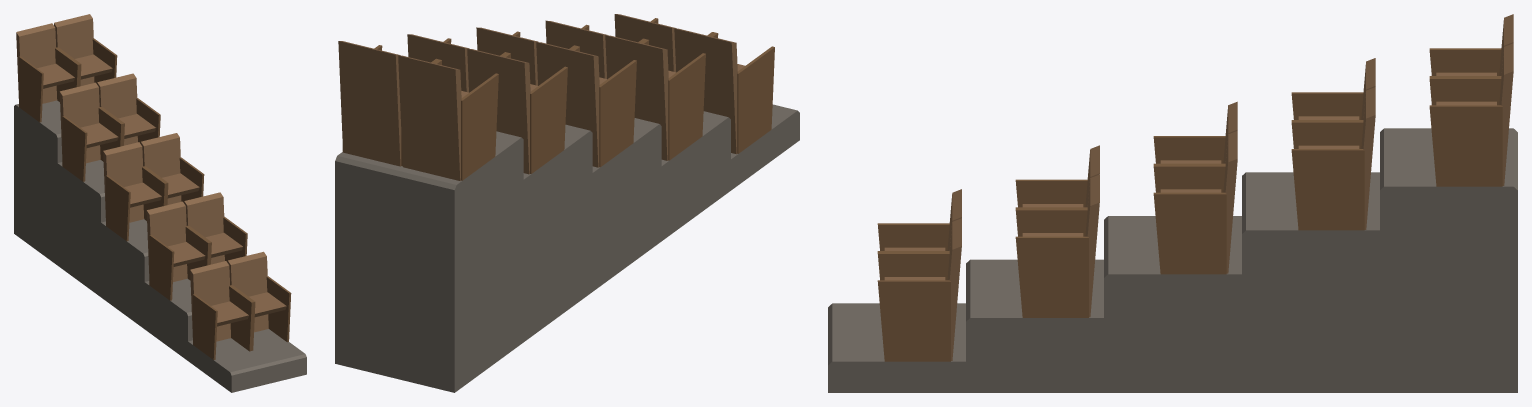
The model's file is lecture-theatre-seating-run-71475a.glb.
3 views of the same model, side by side, from view 1: azimuth 30°, elevation 25°; view 2: azimuth 150°, elevation 25°; view 3: azimuth 270°, elevation 25° (orthographic). The views are drawn at different scales.
Parts seen in each view (by area): view 1: seating-tiers, seat-3-left-pan, seat-5-left-pan, seat-3-right-pan, seat-4-right-pan, seat-1-left-pan, seat-2-right-pan, seat-4-left-pan, seat-5-right-pan, seat-2-left-pan, seat-1-right-pan; view 2: seating-tiers; view 3: seating-tiers.
Part boxes in pixels (x1=…): seating-tiers: x1=14, y1=14, x2=306, y2=392; seat-3-left-pan: x1=124, y1=182, x2=161, y2=207; seat-5-left-pan: x1=37, y1=63, x2=74, y2=88; seat-3-right-pan: x1=162, y1=173, x2=199, y2=198; seat-4-right-pan: x1=118, y1=114, x2=155, y2=138; seat-1-left-pan: x1=211, y1=301, x2=248, y2=326; seat-2-right-pan: x1=205, y1=233, x2=242, y2=257; seat-4-left-pan: x1=81, y1=123, x2=118, y2=147; seat-5-right-pan: x1=75, y1=54, x2=112, y2=79; seat-2-left-pan: x1=168, y1=242, x2=205, y2=266; seat-1-right-pan: x1=249, y1=292, x2=286, y2=317; seating-tiers: x1=335, y1=14, x2=799, y2=392; seating-tiers: x1=828, y1=14, x2=1517, y2=392.
Size of the model in its own units: 1 by 2.57 by 5.
